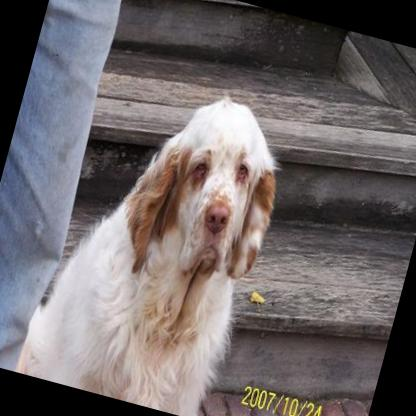clumber: (13, 62, 300, 416)
